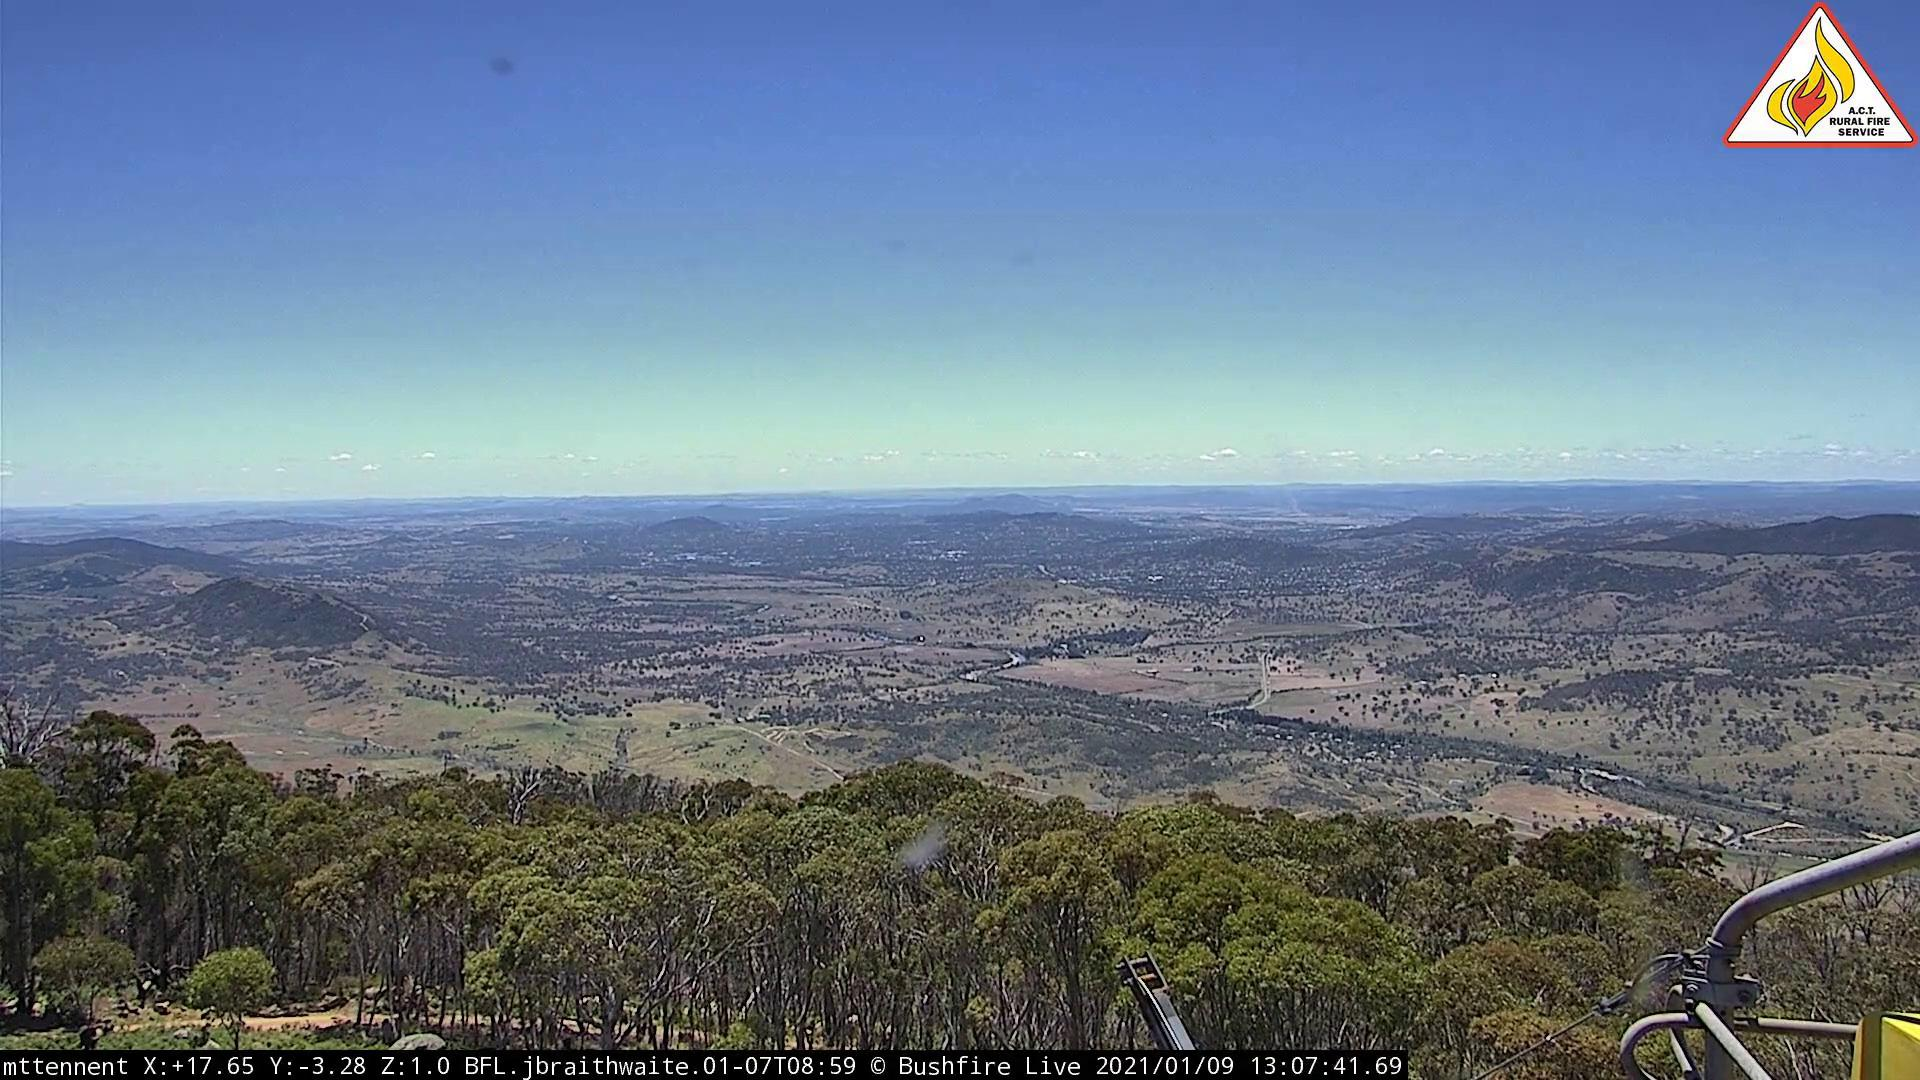Smoke: (1288, 498, 1317, 517)
